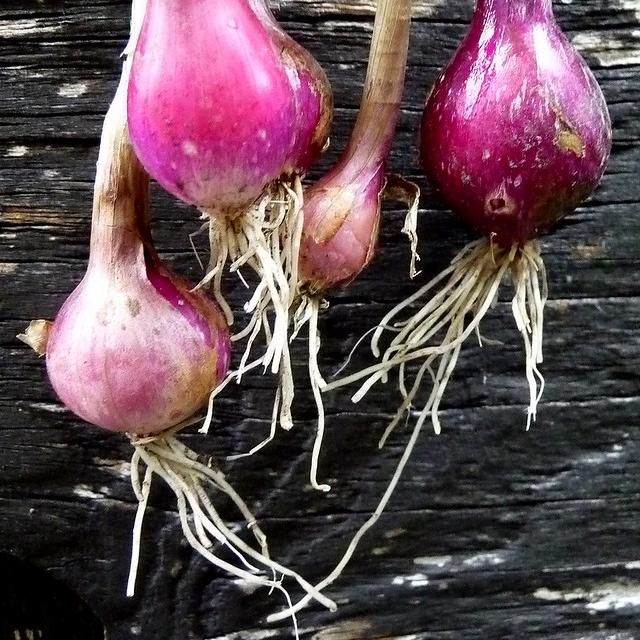green_onion: (22, 0, 612, 619)
